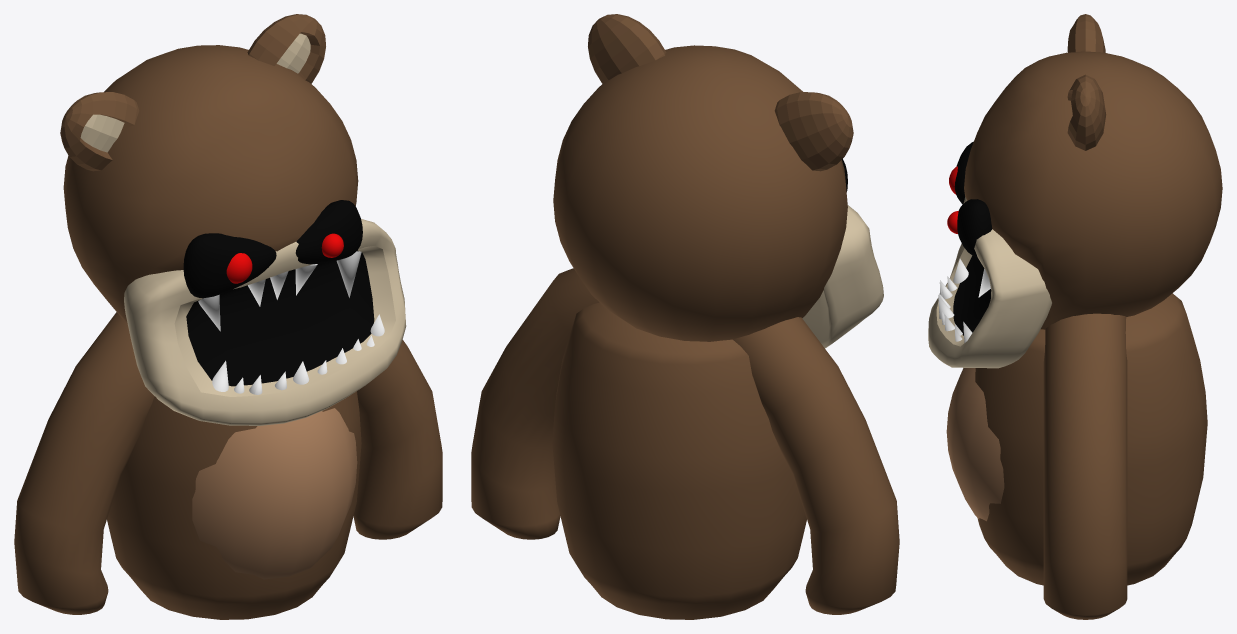
File: BearEvenHungrier.fbx
3 views of the same model, side by side, from view 1: azimuth 30°, elevation 25°; view 2: azimuth 150°, elevation 25°; view 3: azimuth 270°, elevation 25° (orthographic). The views are drawn at different scales.
Visible parts, largest first — view 1: pSphere1, pCube1, pCylinder1, pSphere9, pSphere10, pCylinder2, pSphere4, pSphere5, pSphere3, pSphere7, pSphere6; view 2: pSphere1, pSphere9, pCylinder1, pCylinder2, pCube1, pSphere4, pSphere3; view 3: pSphere1, pSphere9, pCylinder2, pCube1, pSphere10, pSphere3, pSphere7, pSphere4, pSphere5.
Boxes of the visible parts, x1,y1,x2,y2 form: pSphere1: (63, 45, 358, 323); pCube1: (124, 219, 406, 425); pCylinder1: (14, 312, 154, 614); pSphere9: (107, 391, 361, 619); pSphere10: (192, 408, 357, 579); pCylinder2: (353, 340, 442, 539); pSphere4: (60, 92, 139, 171); pSphere5: (183, 233, 276, 298); pSphere3: (247, 14, 325, 83); pSphere7: (295, 200, 362, 264); pSphere6: (226, 253, 252, 283); pSphere1: (553, 45, 847, 341); pSphere9: (552, 302, 806, 619); pCylinder1: (733, 317, 899, 614); pCylinder2: (471, 268, 599, 539); pCube1: (802, 205, 883, 348); pSphere4: (774, 92, 853, 171); pSphere3: (588, 14, 666, 83); pSphere1: (964, 51, 1222, 329); pSphere9: (975, 293, 1207, 585); pCylinder2: (1043, 313, 1127, 619); pCube1: (928, 197, 1051, 368); pSphere10: (946, 368, 1004, 521); pSphere3: (1067, 74, 1106, 150); pSphere7: (957, 199, 992, 257); pSphere4: (1067, 14, 1105, 52); pSphere5: (954, 141, 973, 204).
Bounding box in the file's own units: 9 × 11.7 × 6.01.
